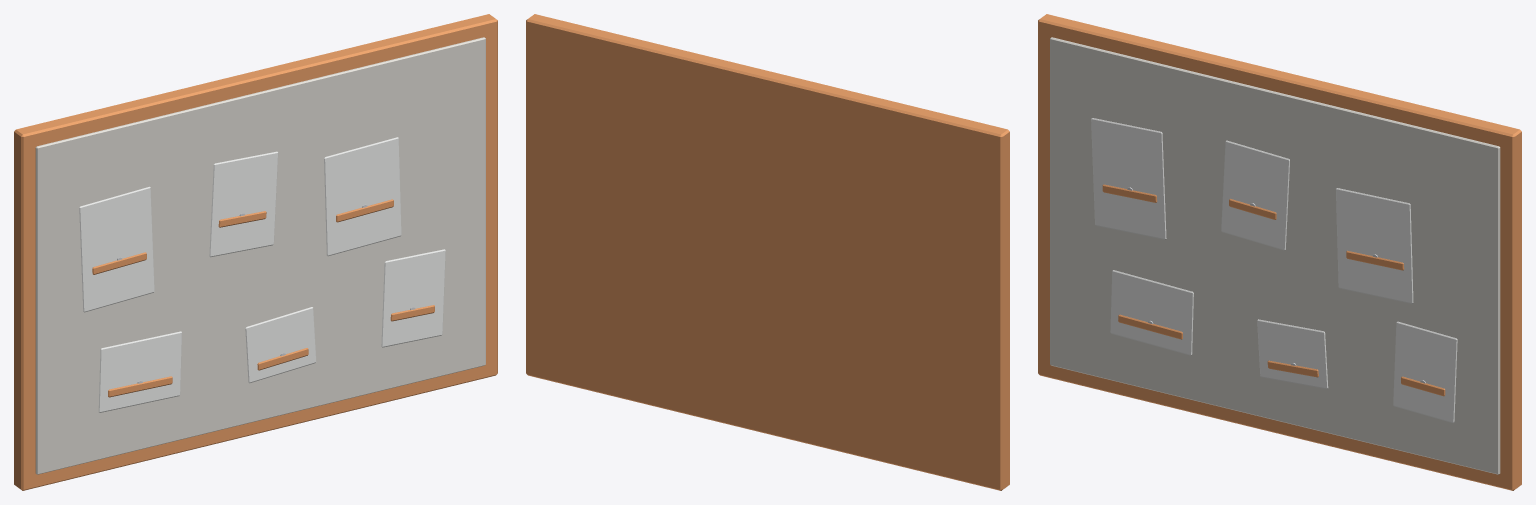
File: university-lecture-hall-and-campus-noticeboard-a3191661__34766.glb
3 views of the same model, side by side, from view 1: azimuth 30°, elevation 25°; view 2: azimuth 150°, elevation 25°; view 3: azimuth 330°, elevation 25° (orthographic).
Parts seen in each view (by area): view 1: noticeboard; view 2: noticeboard; view 3: noticeboard.
Boxes of the visible parts, x1,y1,x2,y2 form: noticeboard: [14, 14, 497, 490]; noticeboard: [526, 14, 1009, 490]; noticeboard: [1038, 14, 1521, 490].
Bounding box in the file's own units: 1.4 × 1 × 0.06.
